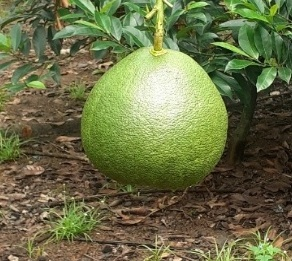Buoi: (71, 44, 236, 203)
